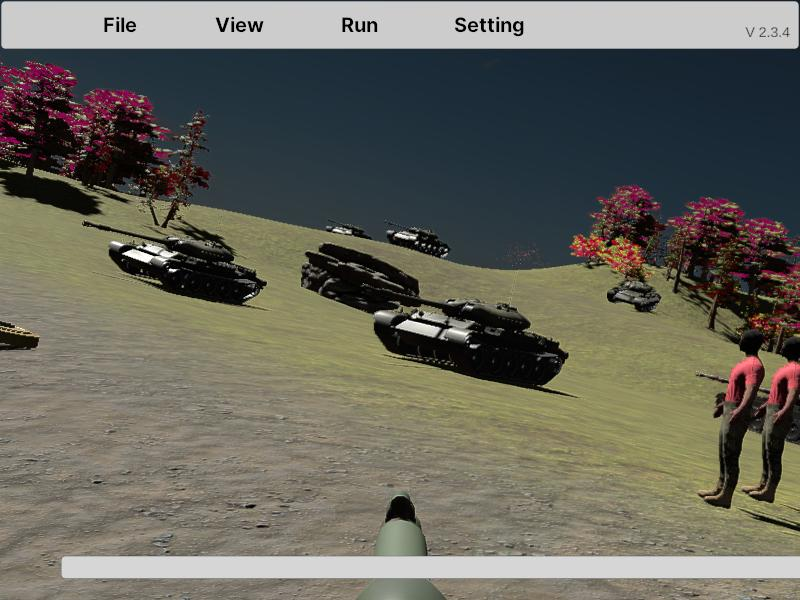Human: (696, 329, 765, 509), (742, 336, 800, 510)
Tank: (370, 285, 570, 389), (81, 220, 269, 306), (385, 219, 450, 259), (0, 300, 40, 356), (607, 279, 662, 312)
